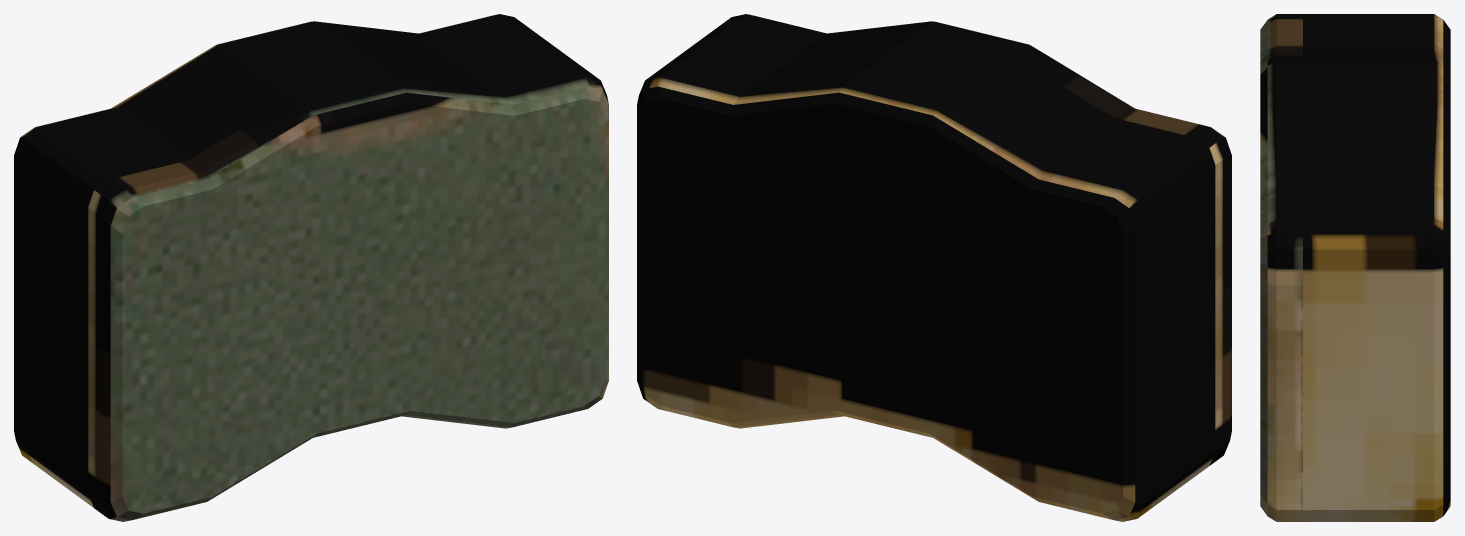
The model's file is textured.baked.glb.
3 renders of one model, left to right at view 1: azimuth 30°, elevation 25°; view 2: azimuth 150°, elevation 25°; view 3: azimuth 270°, elevation 25°, orthographic. The views are drawn at different scales.
Visible parts, largest first — view 1: Sponge_Sponge_0_001-mesh; view 2: Sponge_Sponge_0_001-mesh; view 3: Sponge_Sponge_0_001-mesh.
Part boxes in pixels (x1,y1,x2,y2): Sponge_Sponge_0_001-mesh: (14,14,608,521); Sponge_Sponge_0_001-mesh: (637,14,1231,521); Sponge_Sponge_0_001-mesh: (1260,14,1450,521).
Bounding box in the file's own units: 0.1 × 0.07 × 0.036.
1 material, 1 textured.
